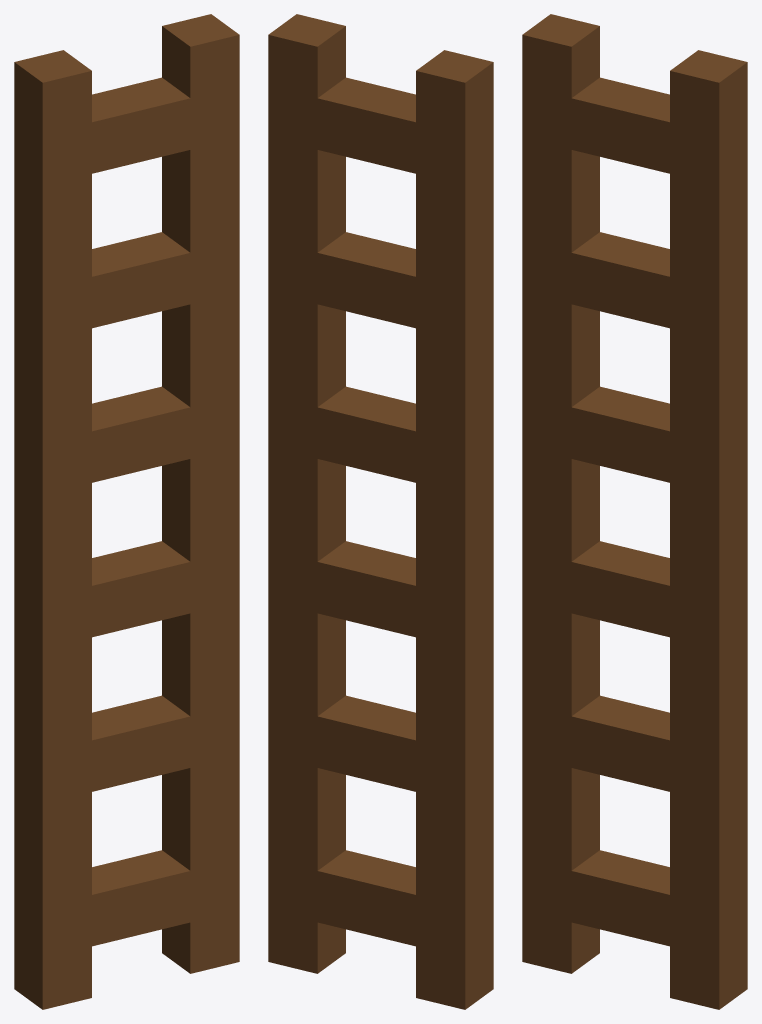
File: Ladder.dae
3 views of the same model, side by side, from view 1: azimuth 30°, elevation 25°; view 2: azimuth 150°, elevation 25°; view 3: azimuth 330°, elevation 25° (orthographic).
Parts seen in each view (by area): view 1: Ladder; view 2: Ladder; view 3: Ladder.
Boxes of the visible parts, x1,y1,x2,y2 form: Ladder: (14,14,239,1009); Ladder: (268,14,493,1009); Ladder: (522,14,747,1009).
Size of the model in its own units: 4 by 18 by 1.
Materials: 1 (1 with a texture image).
